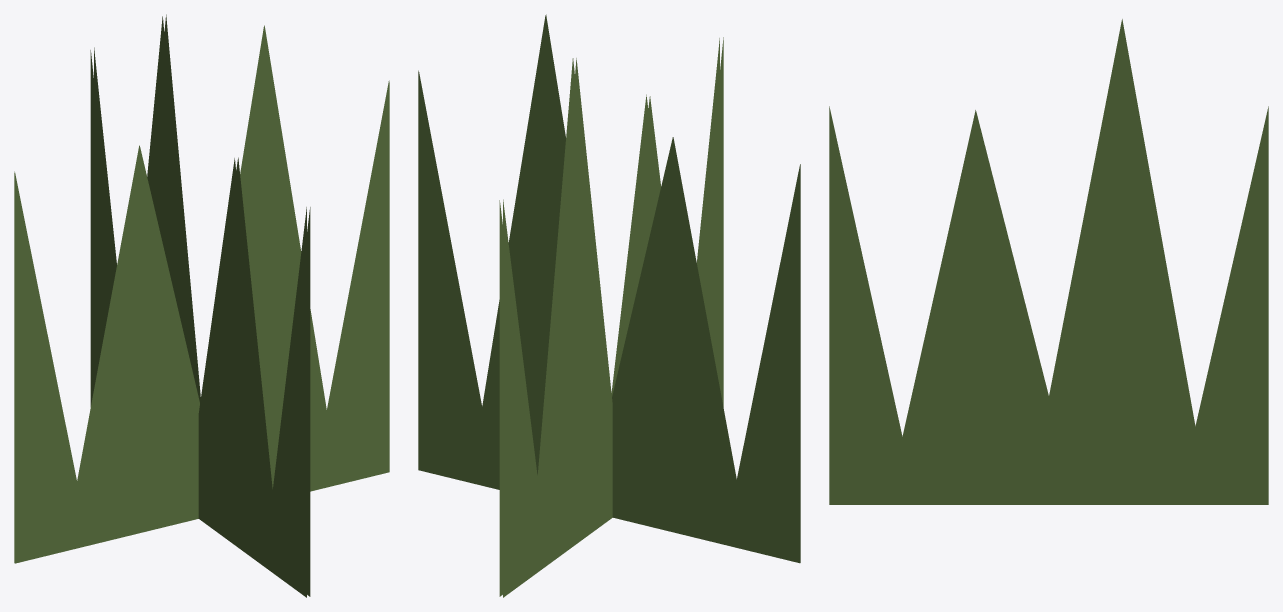
Rendered from grass.fbx.
3 renders of one model, left to right at view 1: azimuth 30°, elevation 25°; view 2: azimuth 150°, elevation 25°; view 3: azimuth 270°, elevation 25°, orthographic.
Parts seen in each view (by area): view 1: grass; view 2: grass; view 3: grass.
Boxes of the visible parts, <box> form: grass: <box>14,14,389,597</box>; grass: <box>418,14,800,597</box>; grass: <box>829,19,1268,504</box>.
Size of the model in its own units: 1 by 1.22 by 1.
